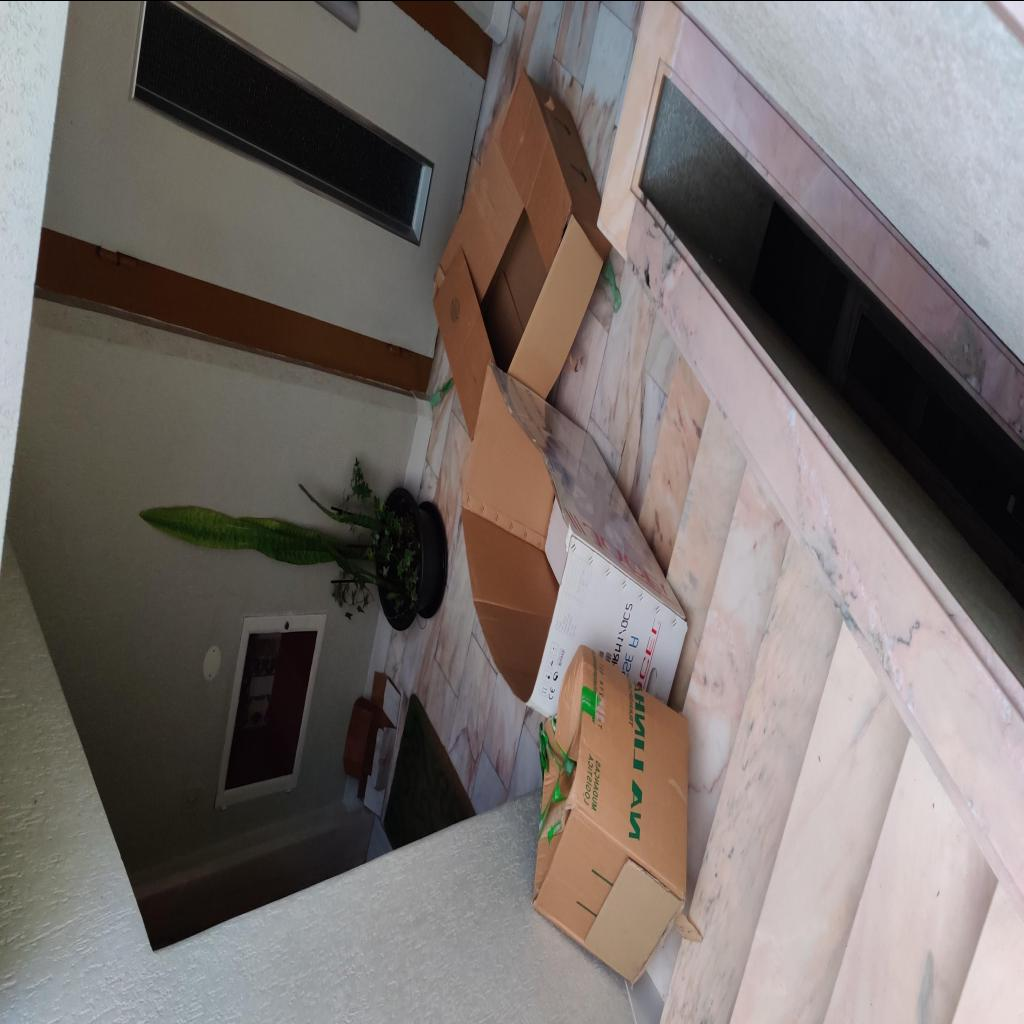Corrugated carton: (462, 362, 688, 720), (433, 66, 612, 440), (533, 644, 703, 984), (342, 671, 400, 817)
